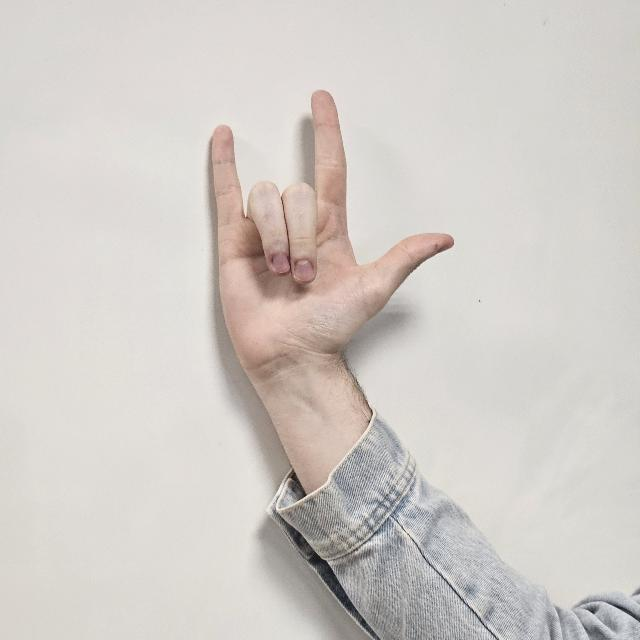Cima: (202, 85, 456, 382)
